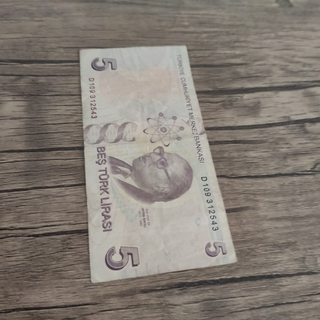5TLBack: (78, 44, 238, 284)
